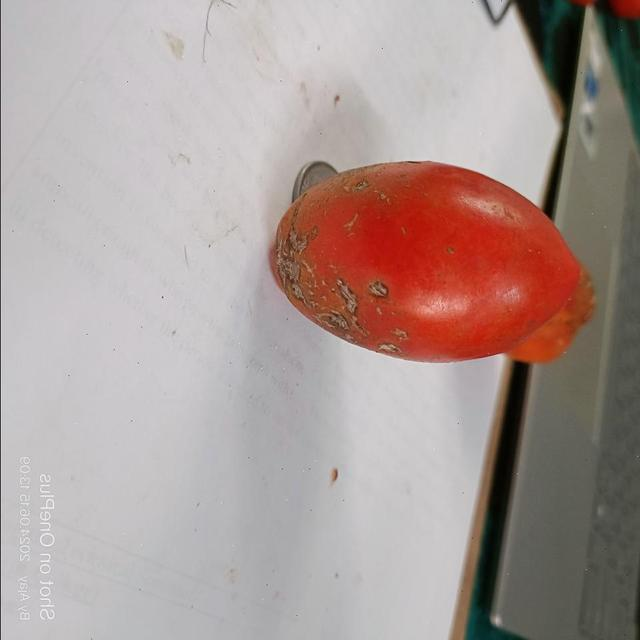Bacterial Spot Fruit: (14, 12, 261, 226)
